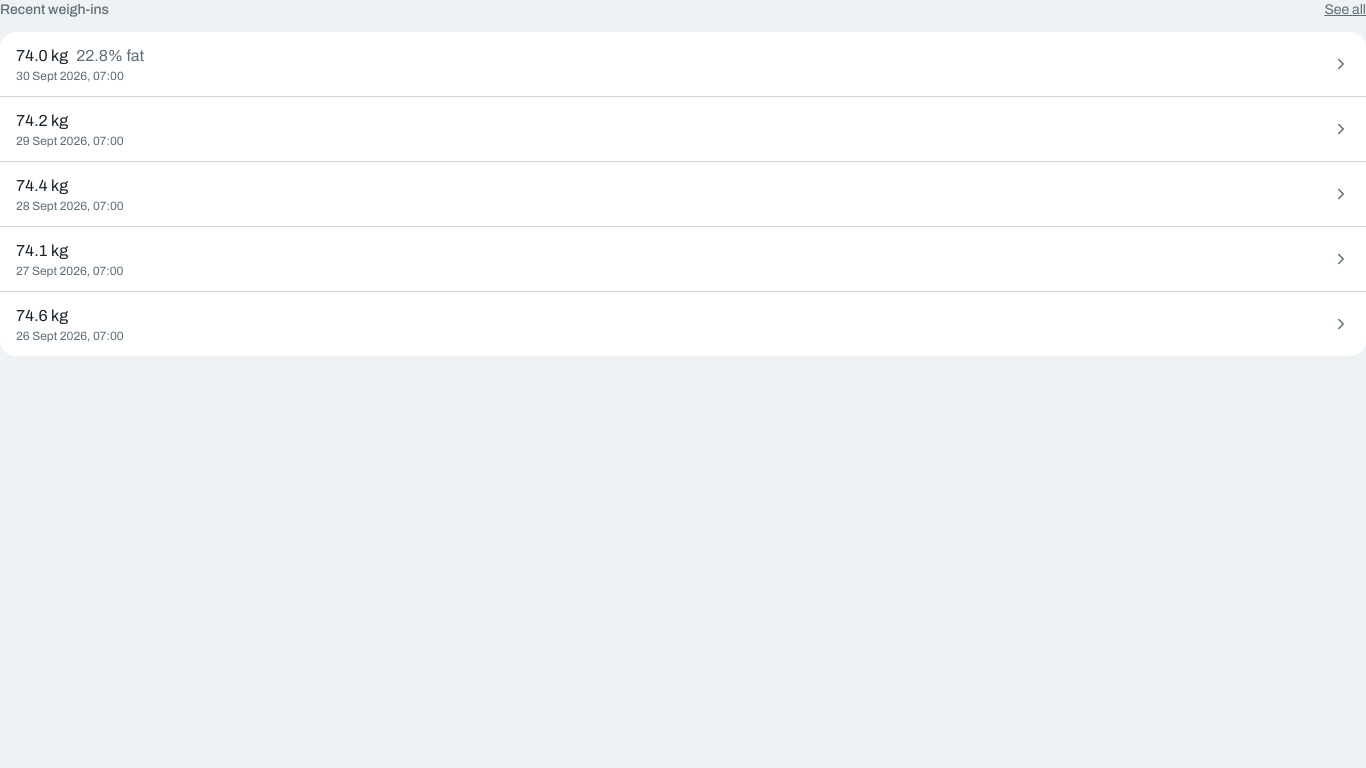
RecentWeighIns › deletes a weigh-in after confirmation
This screenshot has width=1366, height=768.
Click the button with aria-label "Edit weigh-in from".
click(42, 120)  # box x1=0 y1=97 x2=1365 y2=161
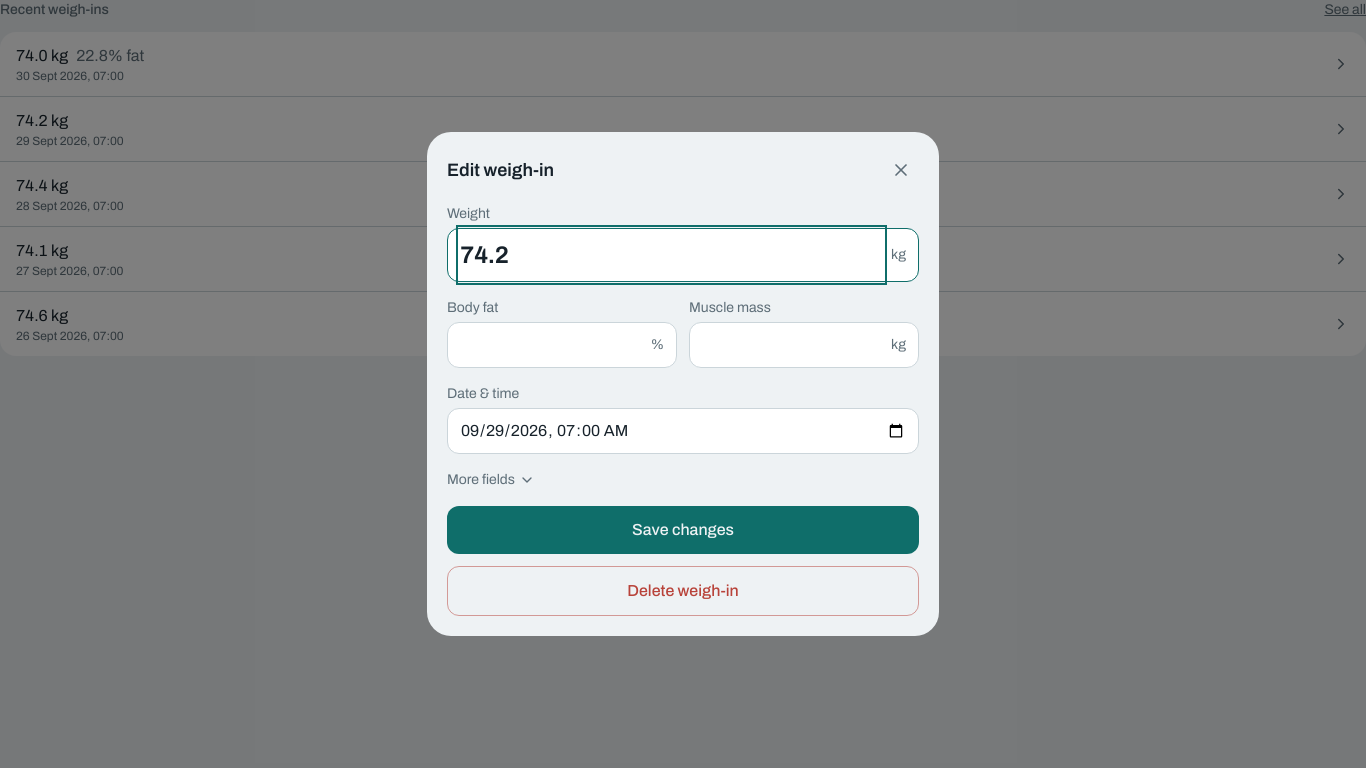
Click the button "Delete weigh-in".
click(683, 591)  # box x1=447 y1=566 x2=919 y2=616
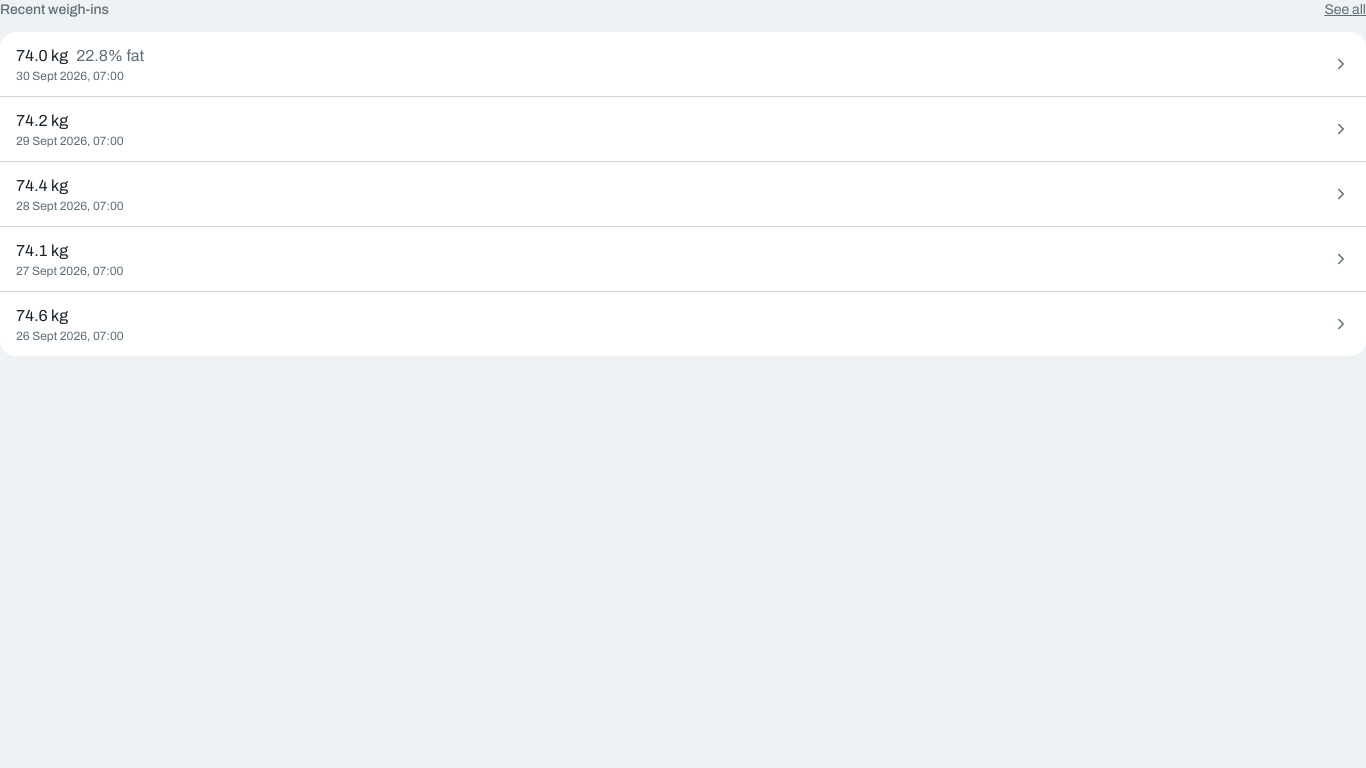
Expected: the dialog is gone
